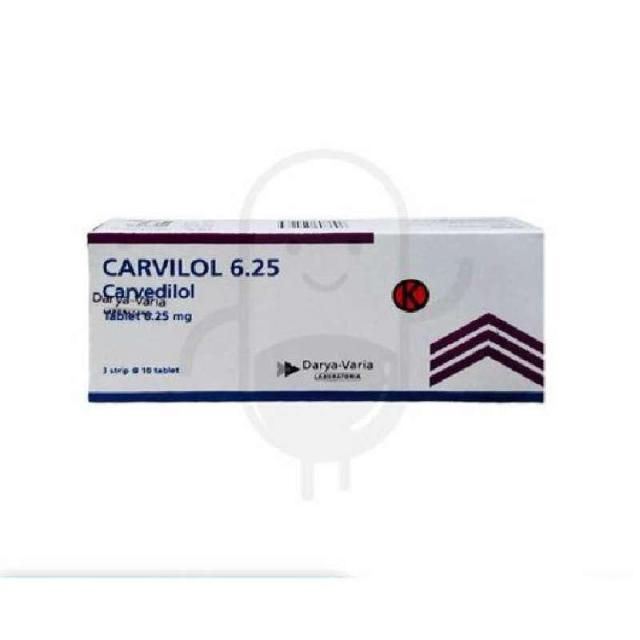drug-name: (104, 254, 283, 276)
